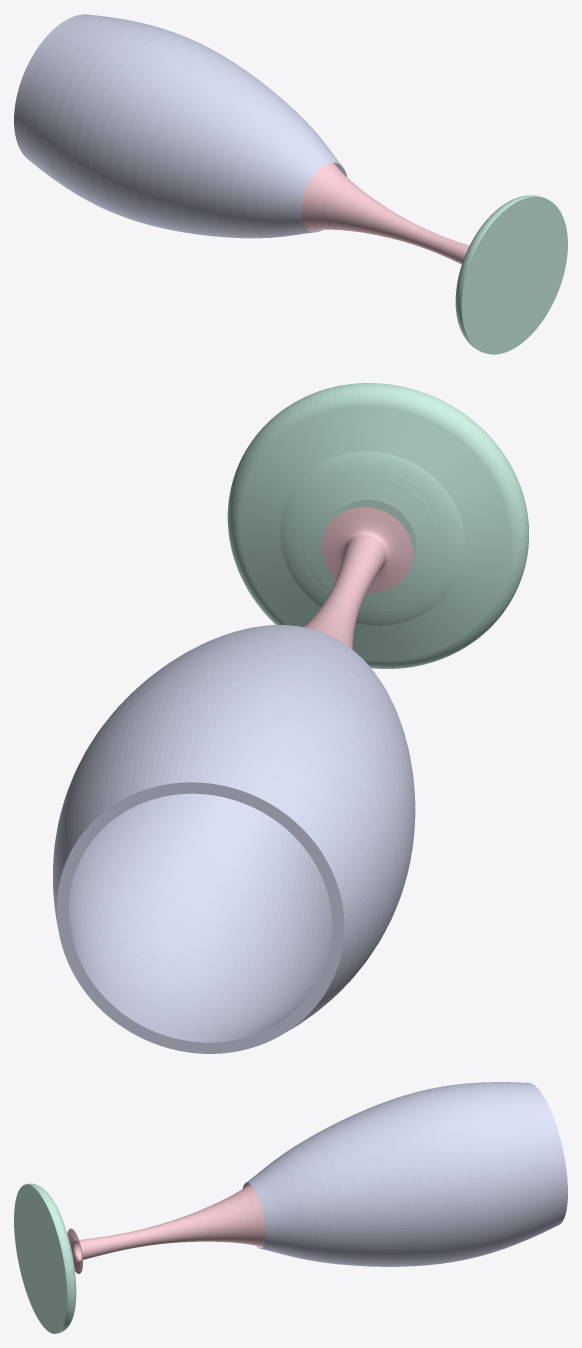
The model's file is view_assembly_9_colored.glb.
3 views of the same model, one above another, from view 1: azimuth 30°, elevation 25°; view 2: azimuth 150°, elevation 25°; view 3: azimuth 270°, elevation 25° (orthographic). The views are drawn at different scales.
Parts seen in each view (by area): view 1: world; view 2: world; view 3: world.
Boxes of the visible parts, x1=… form: world: x1=14, y1=14, x2=567, y2=354; world: x1=53, y1=383, x2=528, y2=1053; world: x1=14, y1=1082, x2=567, y2=1333.
Size of the model in its own units: 0.5918 by 0.3389 by 1.01.
